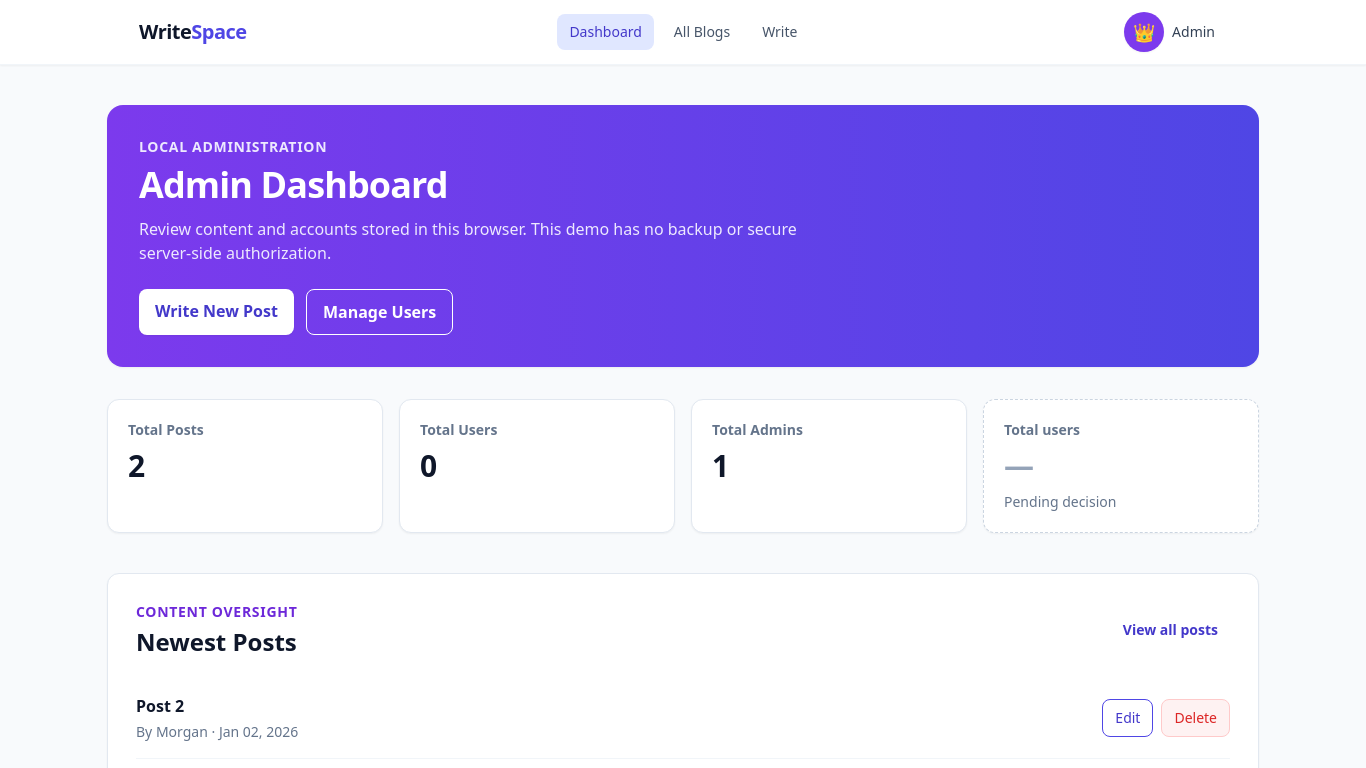
Scenario: admin route and dashboard › cancels deletion without mutation and persists confirmed deletion before updating
This screenshot has width=1366, height=768.
Click the button with aria-label "Delete Post 2".
click(1196, 718)  # box left=1161, top=699, right=1230, bottom=737
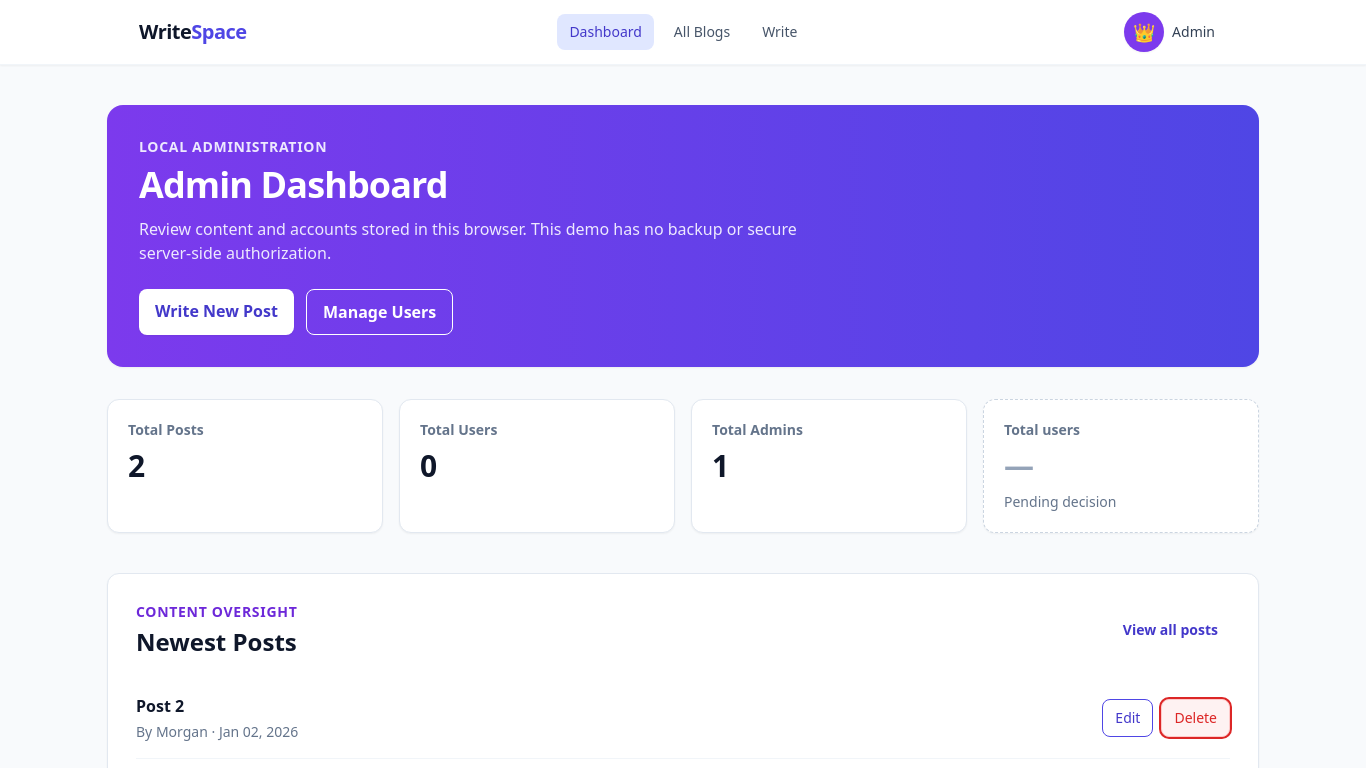
Click the button with aria-label "Delete Post 2".
click(1196, 718)  # box left=1161, top=699, right=1230, bottom=737
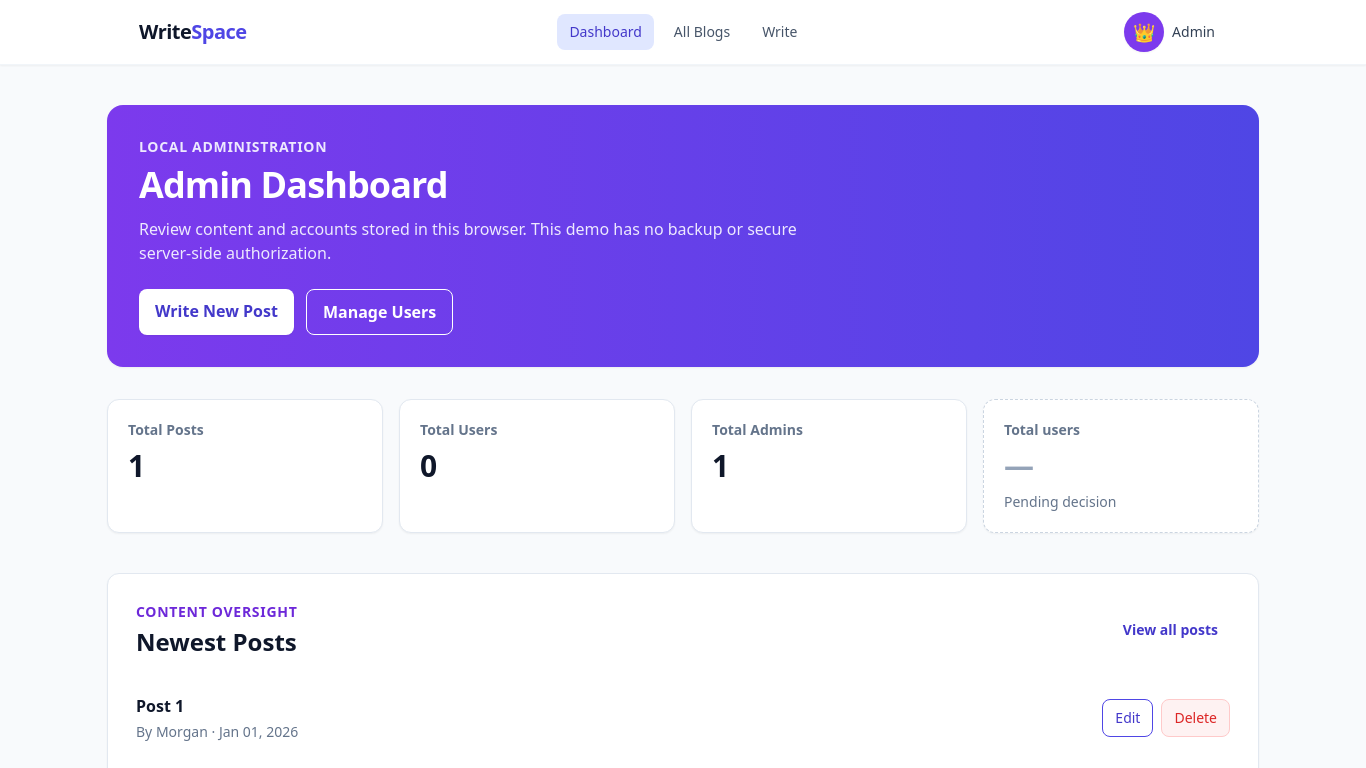
Expected: the link "Post 2" is gone
